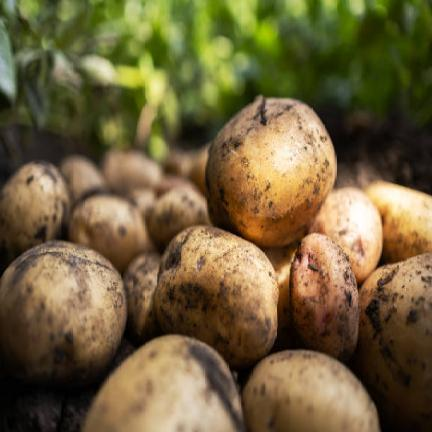potato: (206, 96, 335, 246), (0, 241, 125, 385), (155, 227, 277, 367), (83, 335, 244, 431), (354, 253, 431, 429), (242, 350, 379, 431), (290, 234, 358, 360), (0, 161, 69, 273), (309, 187, 382, 283), (68, 196, 152, 272), (365, 181, 431, 262), (148, 185, 209, 250), (263, 242, 299, 349), (124, 254, 160, 343), (102, 149, 162, 194), (59, 155, 106, 204), (188, 143, 209, 195), (155, 174, 196, 196), (128, 187, 155, 220), (164, 148, 194, 177)
